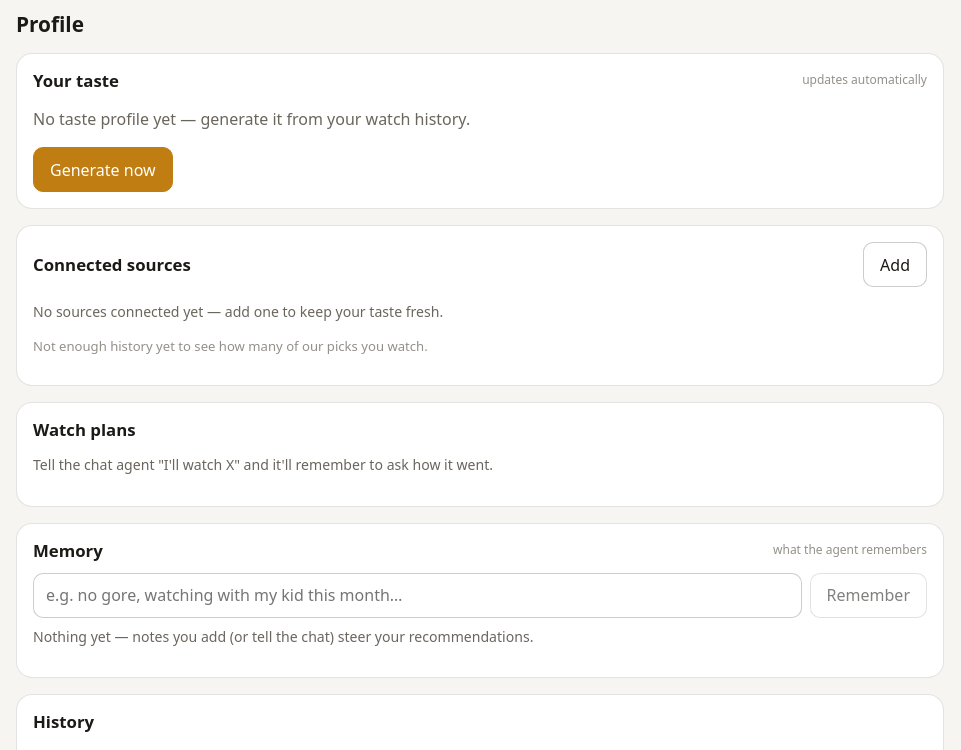
Profile taste generation › shows a localized 'try again' message when the LLM is unavailable (503)
This screenshot has width=961, height=750.
Click the button with test id "taste-generate" at (103, 170), box x1=33 y1=147 x2=173 y2=192
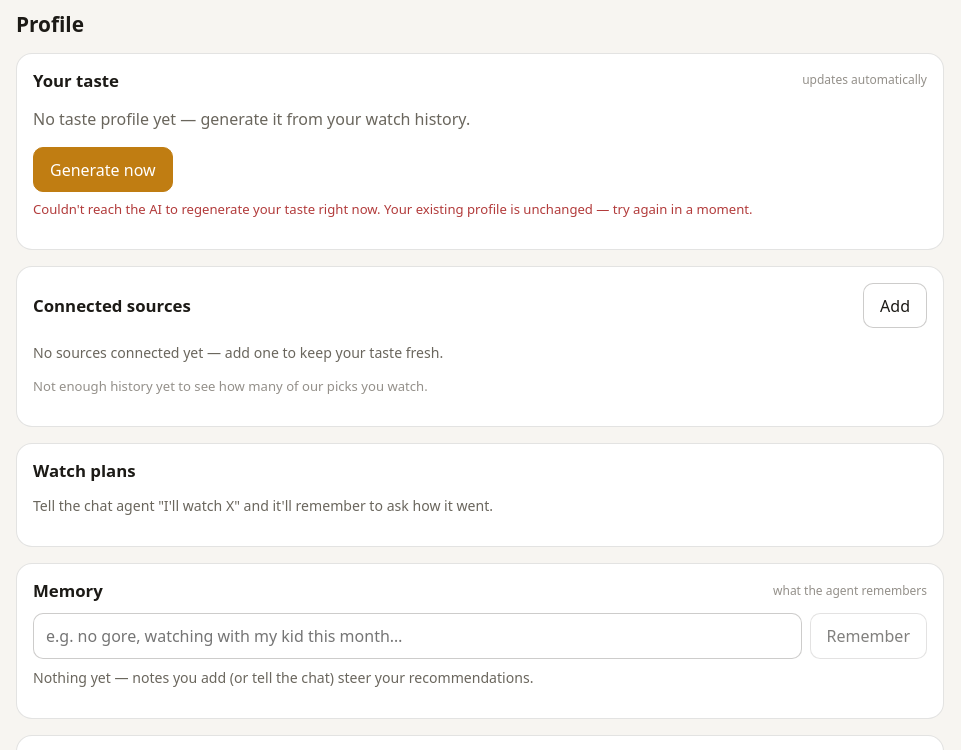
expect the message with test id "taste-generate-error" does not show "Service Unavailable": met, box x1=33 y1=200 x2=753 y2=218
expect the message with test id "taste-generate-error" shows "Couldn't reach the AI to regenerate your taste right now.": met, box x1=33 y1=200 x2=753 y2=218
